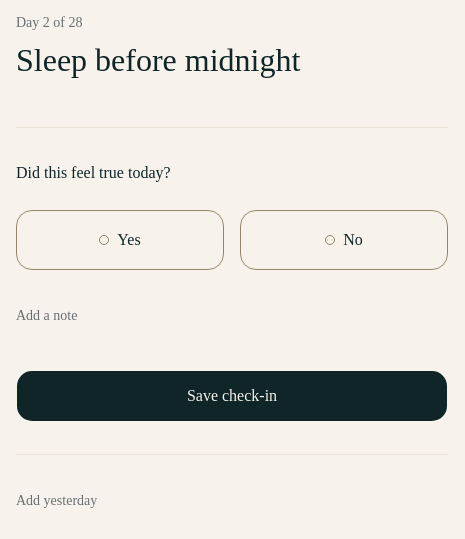
Test: TodayDashboard › during the season › yesterday › cancelling out of yesterday returns to today
Click the button "Add yesterday": click(57, 501) [16,479,97,523]
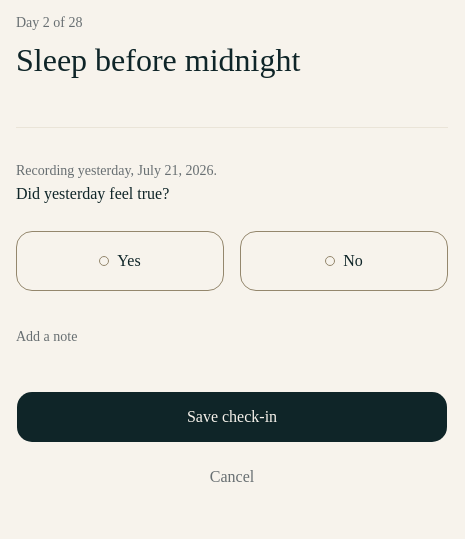
Click the button "Cancel": click(232, 477) [16,451,448,503]
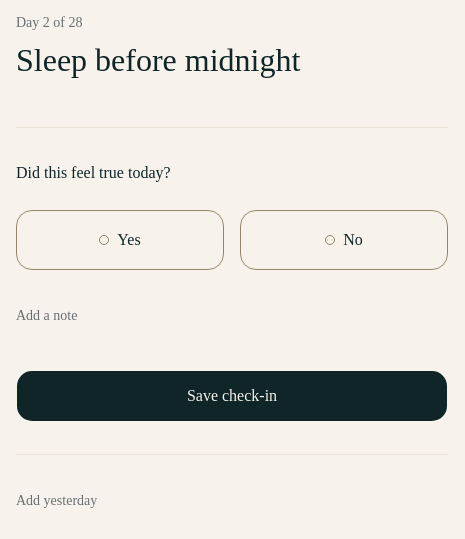
Expected: the heading "Did this feel true today?" is shown, [16,164,171,181]
